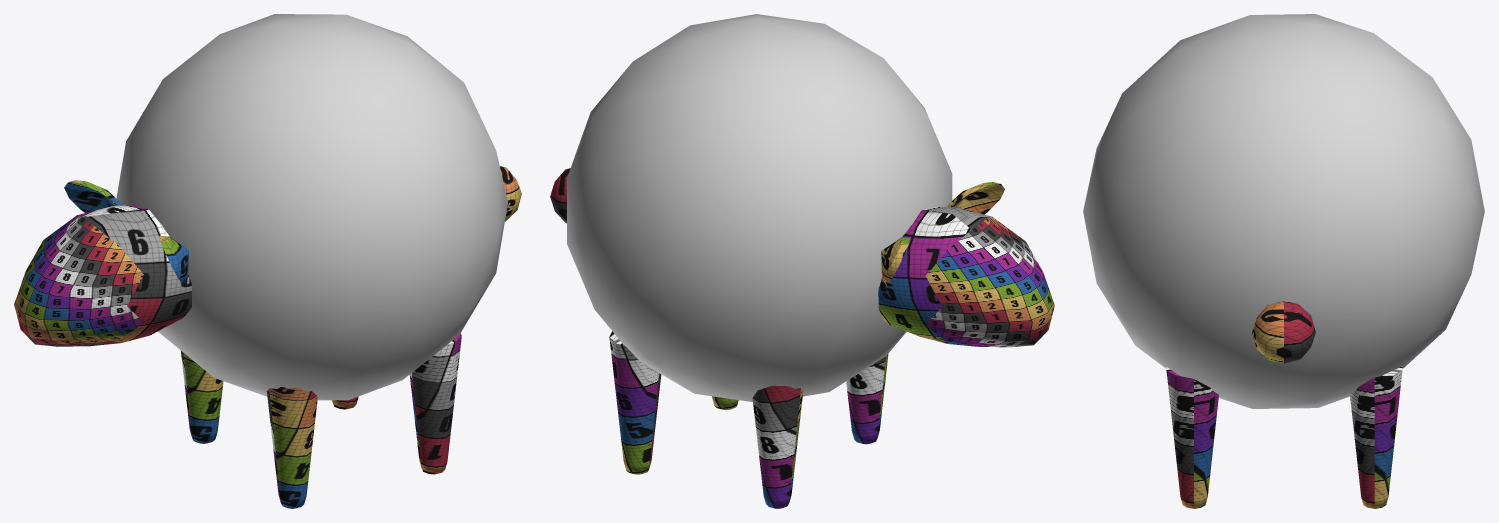
File: Fleouff.FBX
3 views of the same model, side by side, from view 1: azimuth 30°, elevation 25°; view 2: azimuth 150°, elevation 25°; view 3: azimuth 270°, elevation 25° (orthographic). The views are drawn at different scales.
Parts seen in each view (by area): view 1: SheepBody, SheepBits; view 2: SheepBody, SheepBits; view 3: SheepBody, SheepBits.
Part boxes in pixels (x1,y1,x2,y2): SheepBody: (116, 14, 507, 400); SheepBits: (14, 166, 521, 508); SheepBody: (567, 14, 952, 401); SheepBits: (550, 168, 1054, 508); SheepBody: (1083, 14, 1484, 408); SheepBits: (1166, 301, 1402, 508).
Size of the model in its own units: 91.14 by 75.58 by 62.88.
